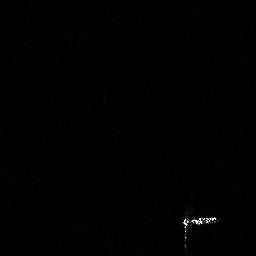ship: (179, 211, 223, 250)
